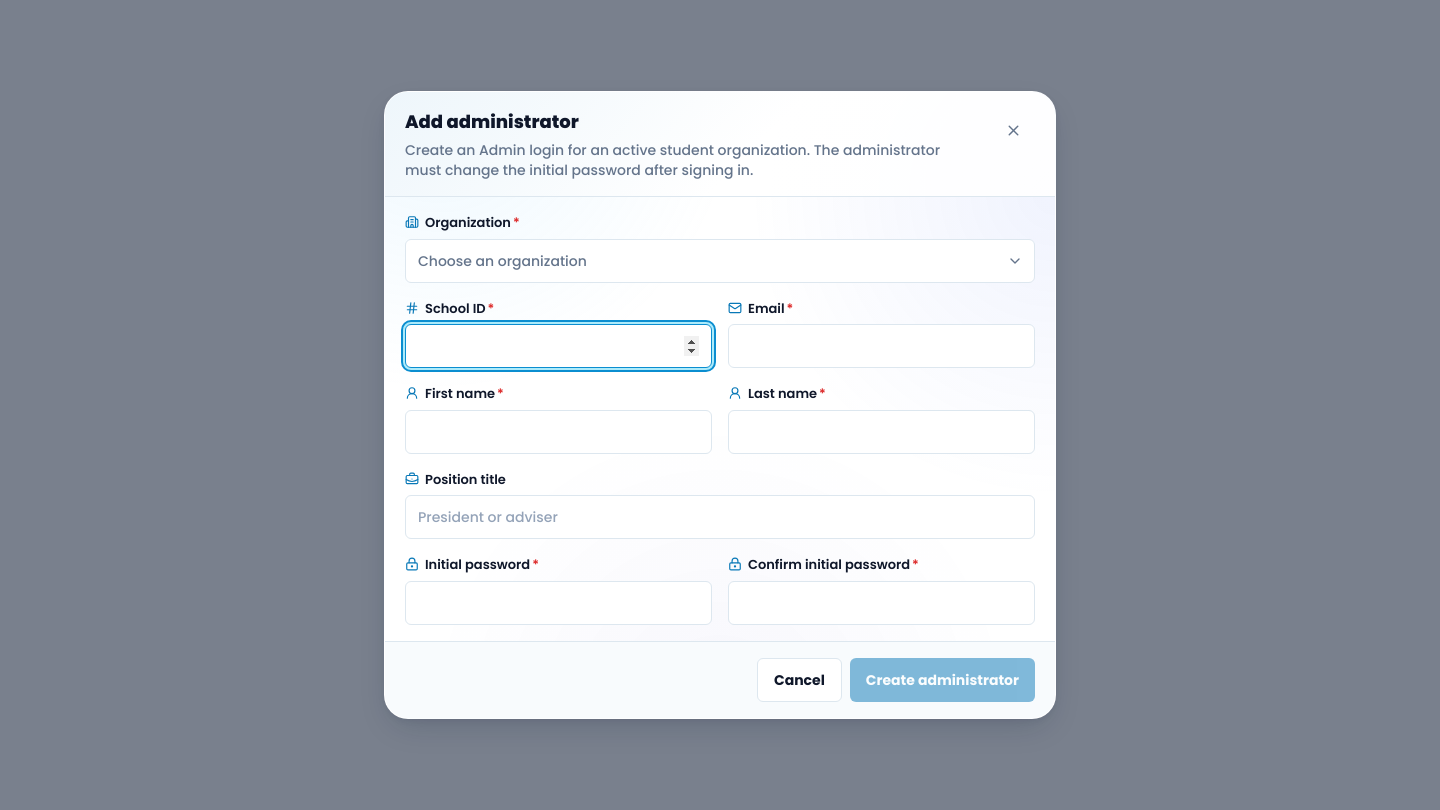
SAO administrator creation › loads authorized destination organizations for the university directory
expect the button "Create administrator" is disabled: met, box [850,658,1035,702]
Select "Computing Council" in the dropdown labelled "Organization*" at [462, 223], box [405,213,520,232]
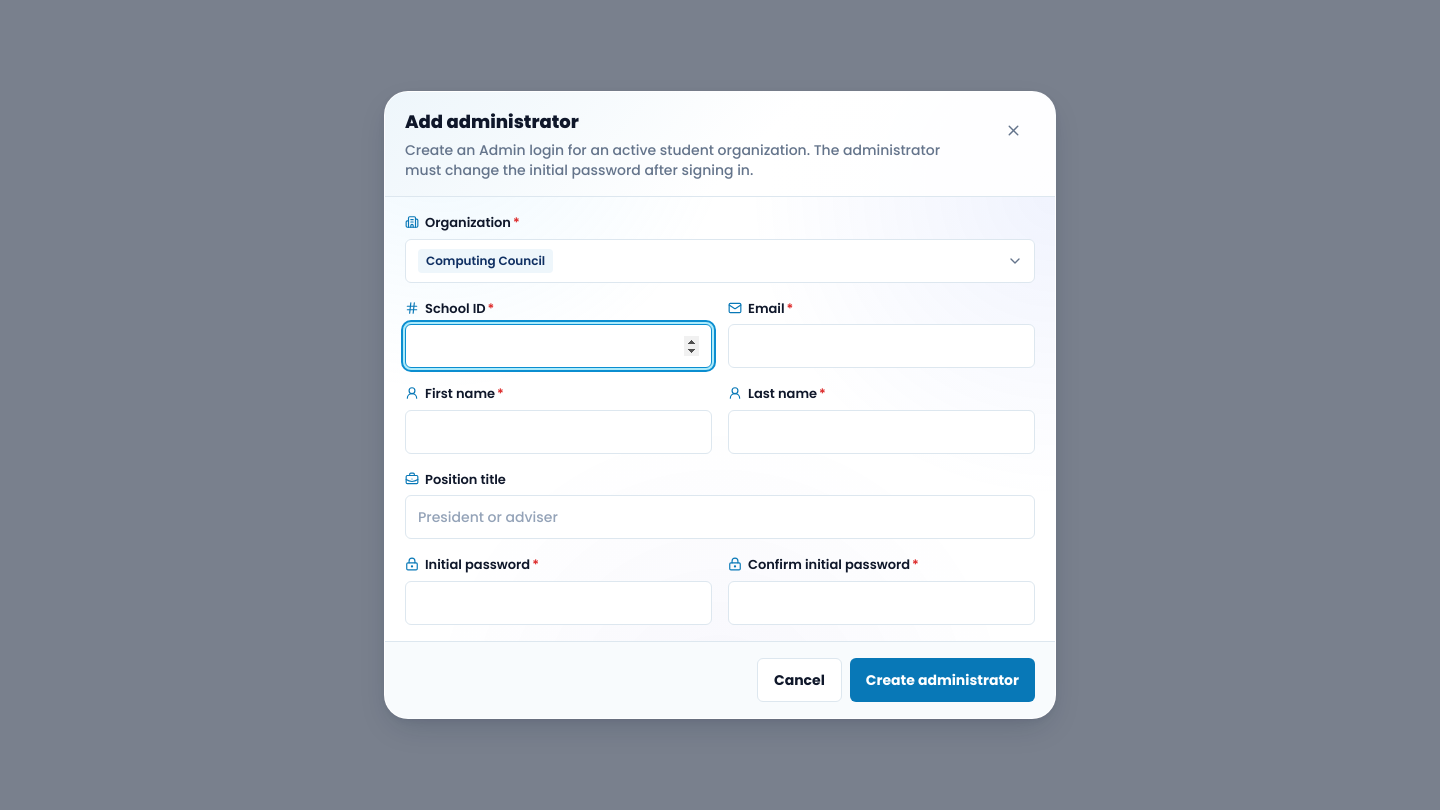
expect the button "Create administrator" is enabled: met, box [850,658,1035,702]
